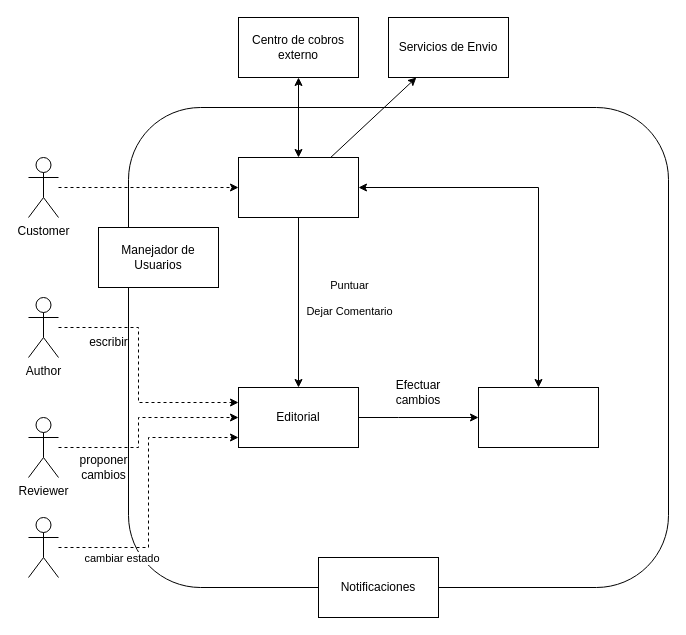
The diagram is 686 pixels wide and 635 high, and some of its shapes have lost their labels. Here are the shapes that lost their labels. From the top down, the centre of each, then its label:
At point 298,187: "Tienda".
At point 538,417: "Libreria".
At point 43,547: "Publisher".
